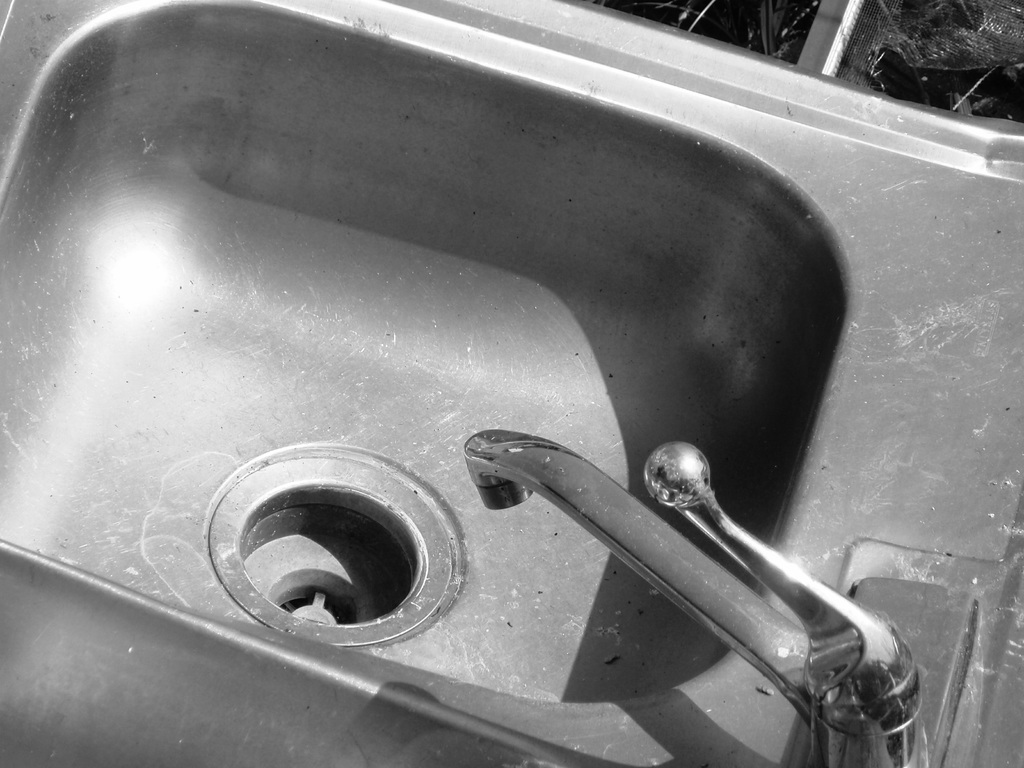tap: (440, 418, 929, 737)
